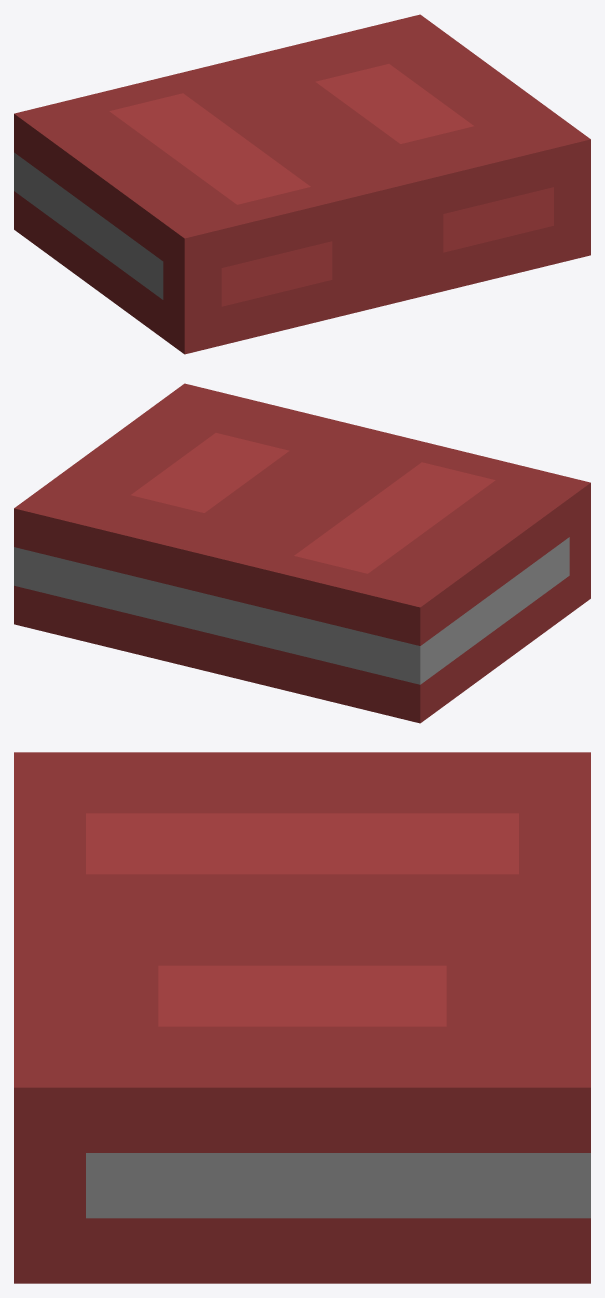
File: Decor-5.obj
3 renders of one model, top to bottom at view 1: azimuth 30°, elevation 25°; view 2: azimuth 150°, elevation 25°; view 3: azimuth 270°, elevation 25°, orthographic. The views are drawn at different scales.
Bounding box in the file's own units: 1.1 × 0.3 × 0.8.
Materials: 1 (1 with a texture image).
